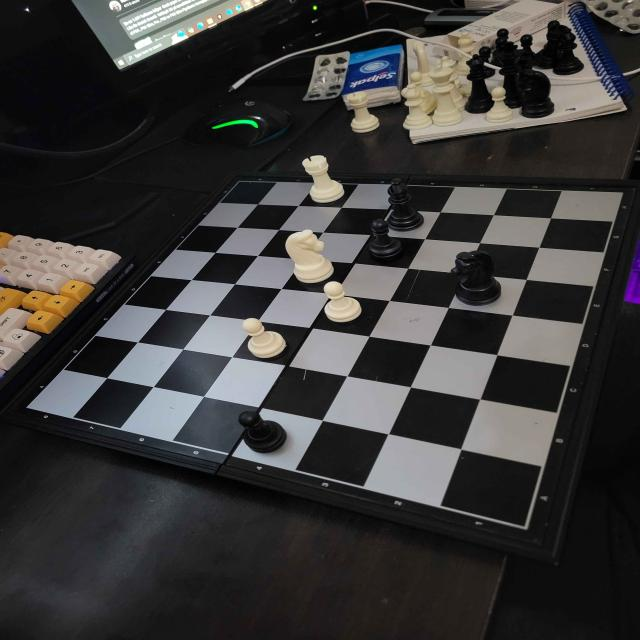black-bishop: (384, 177, 426, 233)
black-knight: (449, 248, 505, 306)
black-pawn: (236, 407, 289, 457), (368, 218, 403, 260)
chess-board: (29, 174, 640, 548)
white-bishop: (403, 83, 431, 131)
white-king: (428, 60, 467, 130)
white-knight: (283, 228, 336, 285)
white-pawn: (240, 316, 290, 361), (322, 280, 365, 325), (485, 86, 514, 126)
white-rook: (301, 154, 346, 206), (346, 89, 380, 136)
